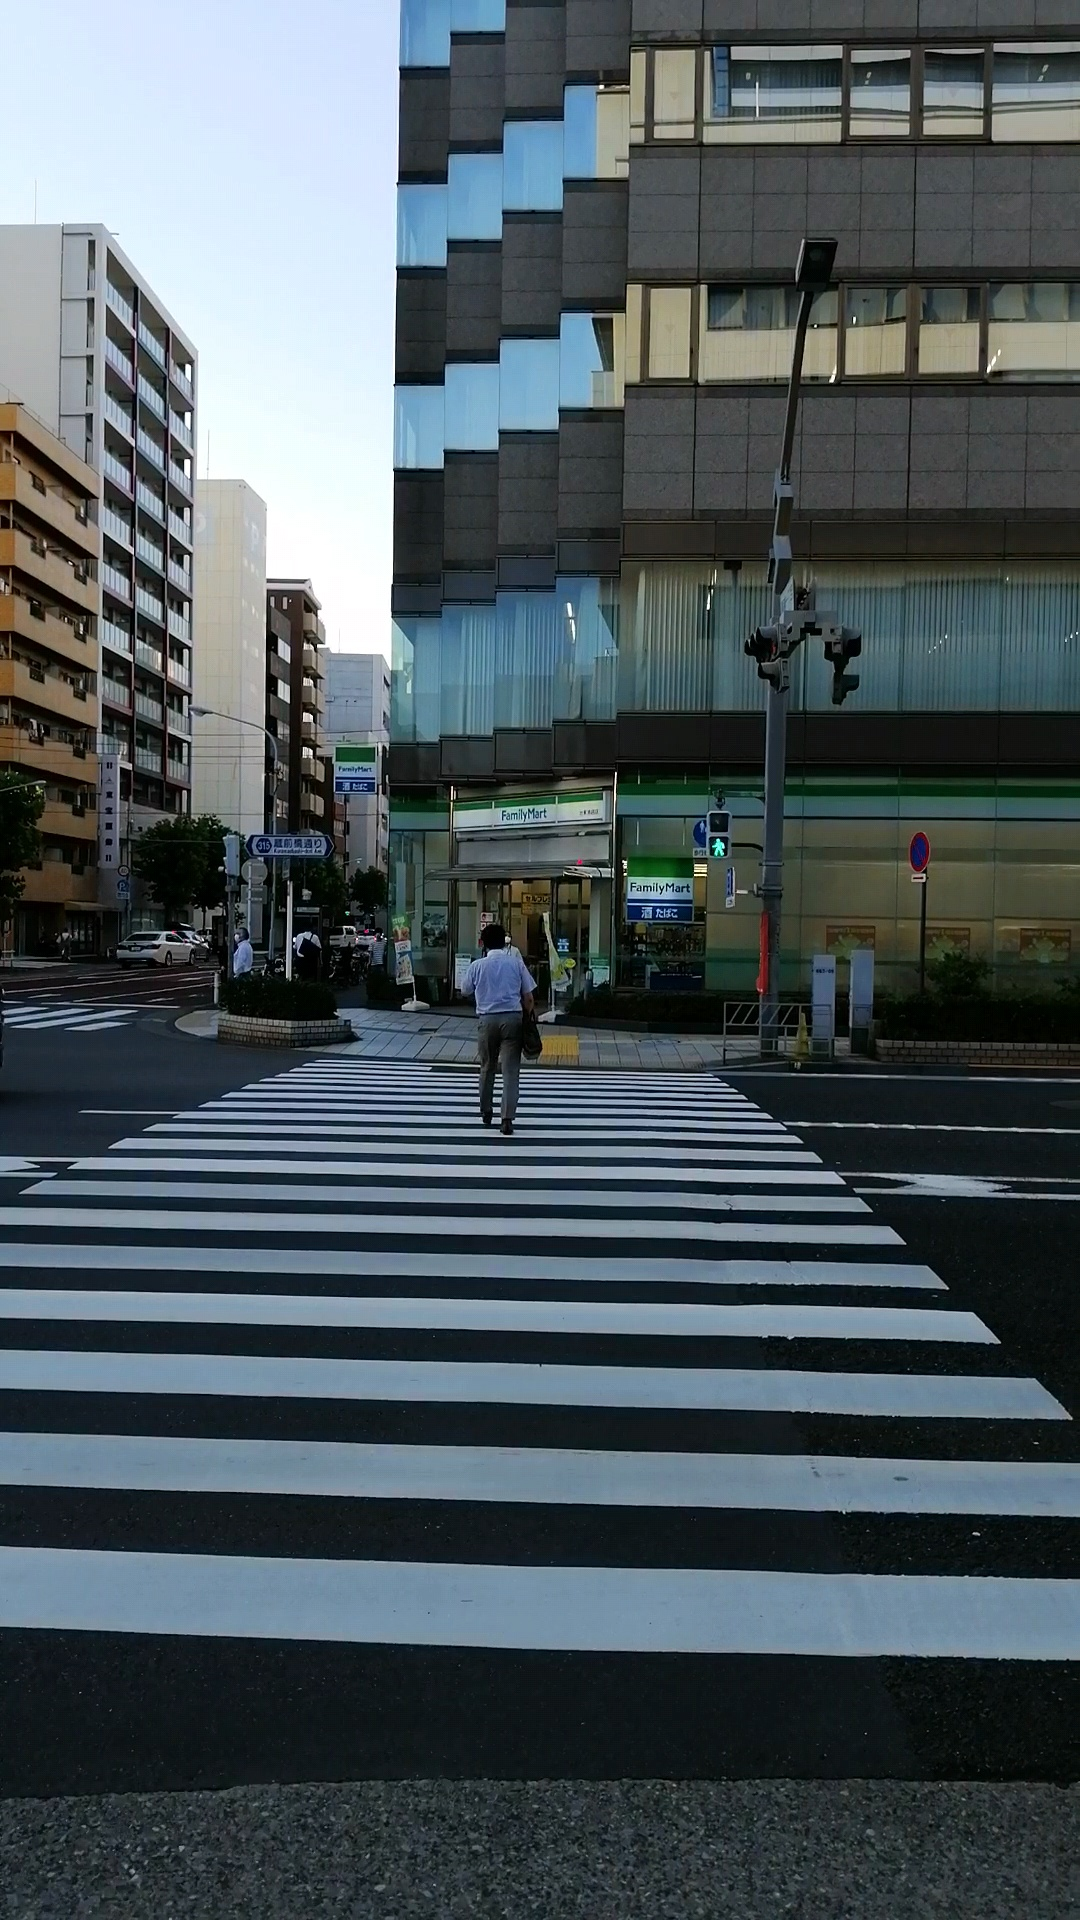green: (703, 810, 732, 862)
